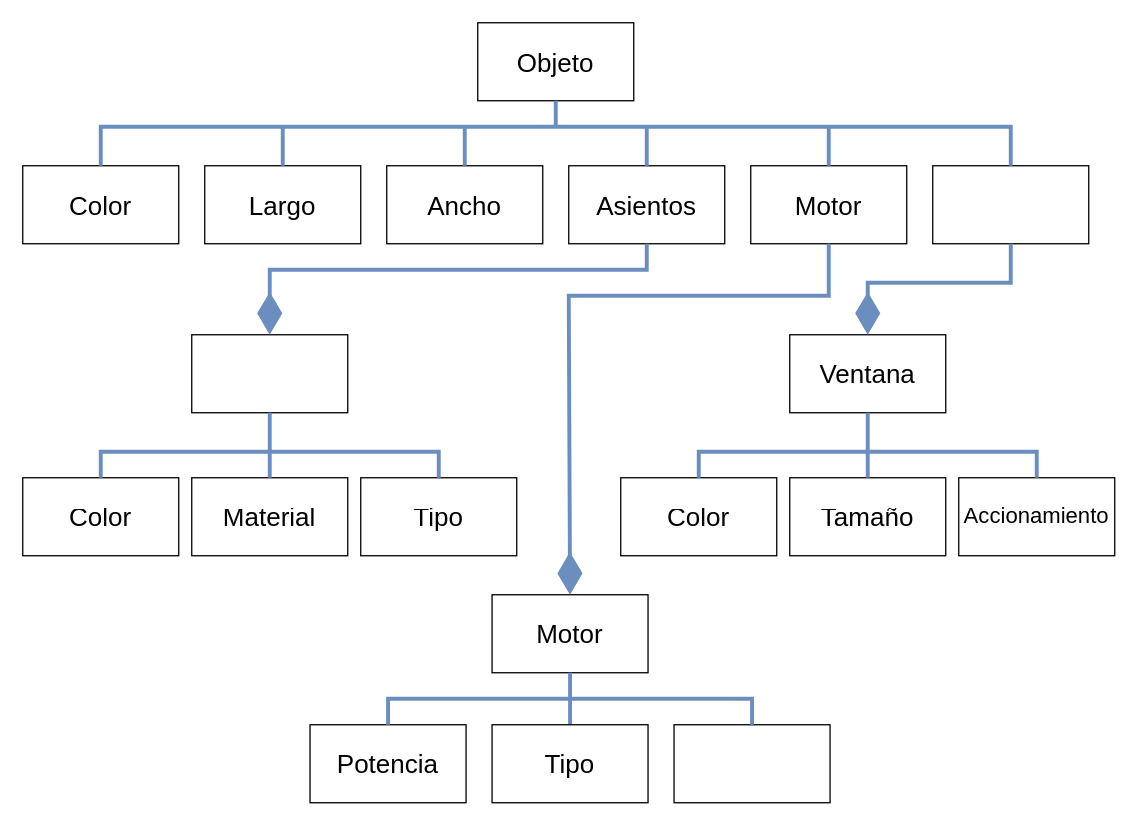
The diagram is 1138 pixels wide and 826 high, and some of its shapes have lost their labels. The shapes that lost their labels are listed below. From the top down, each one's centre as x and y in pixels, then its label:
the point at 1010,204: Ventanas
the point at 269,373: Asiento
the point at 751,763: Combustión
